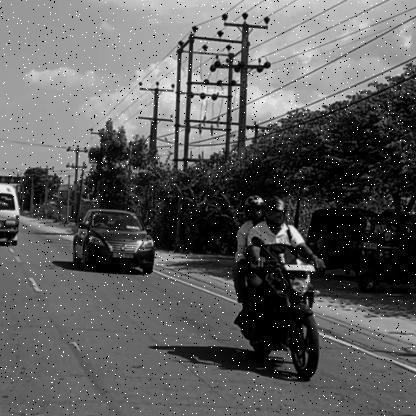motorcycle: (230, 262, 330, 382)
